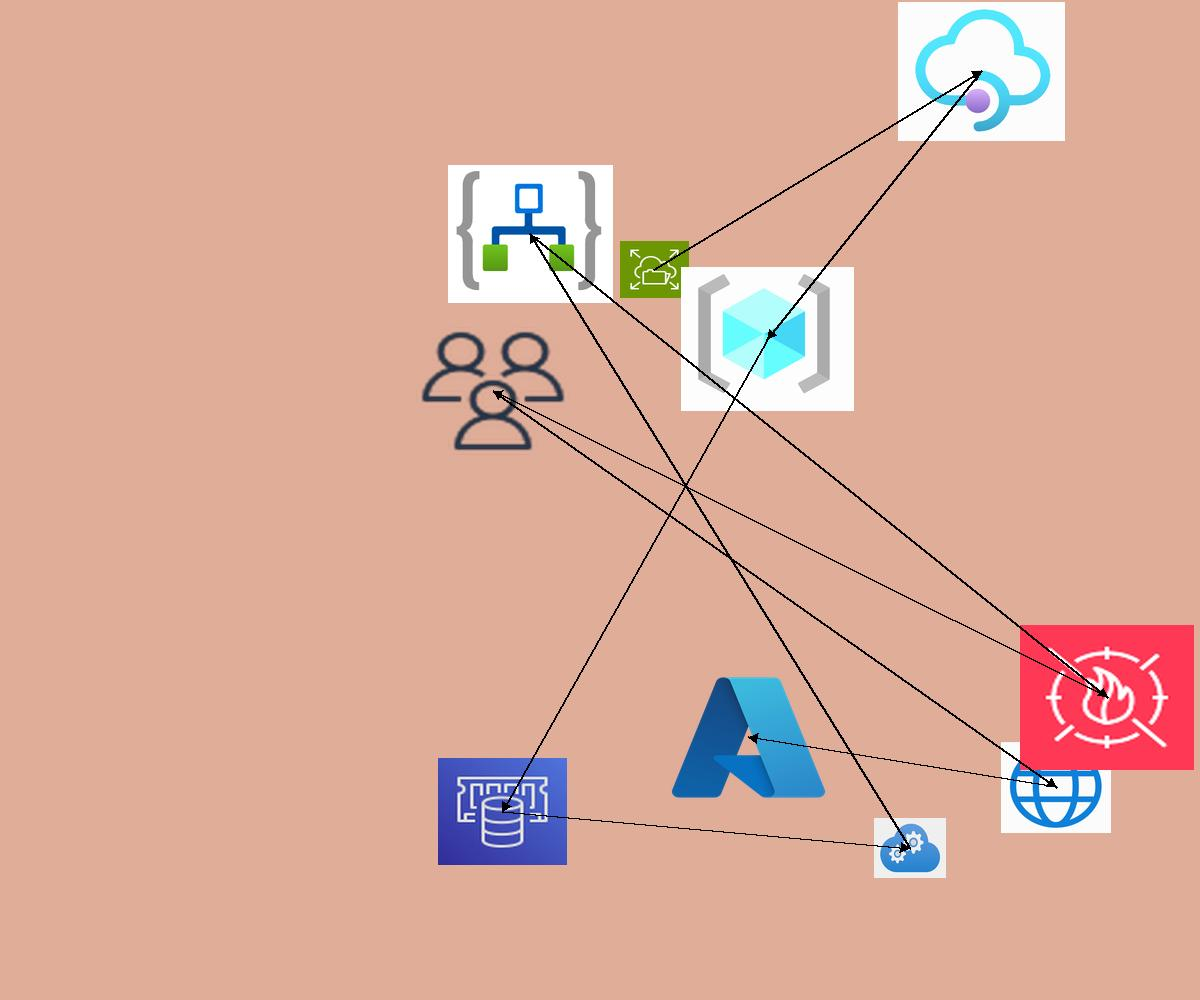AWS-EFS: (620, 241, 689, 298)
AWS-ElastiCache: (438, 758, 567, 865)
AWS-Res_Users: (416, 327, 570, 455)
AWS-WAF: (1020, 625, 1194, 770)
Azure_api_gateway: (898, 2, 1065, 141)
Azure_cloud_services: (874, 818, 946, 878)
Azure_http: (1001, 742, 1111, 833)
Azure_integration-204-Logic-Apps: (448, 165, 613, 303)
Azure_resource_group: (681, 267, 854, 411)
Azure_services: (665, 668, 832, 807)
